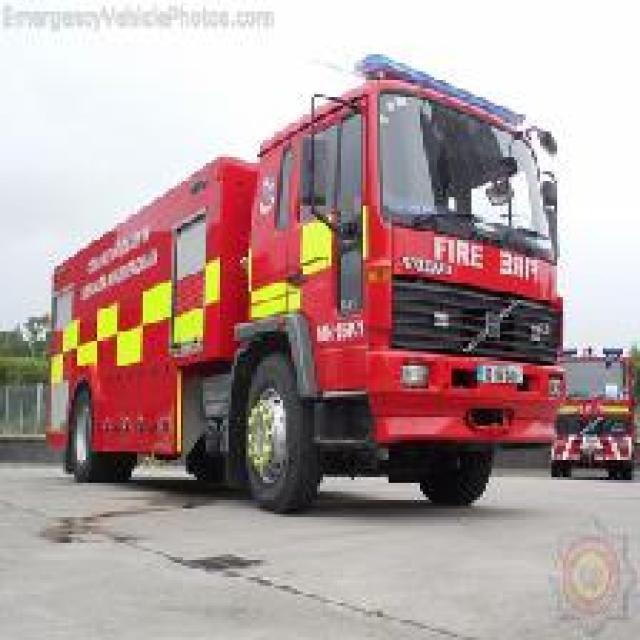emergency: (41, 52, 569, 516)
